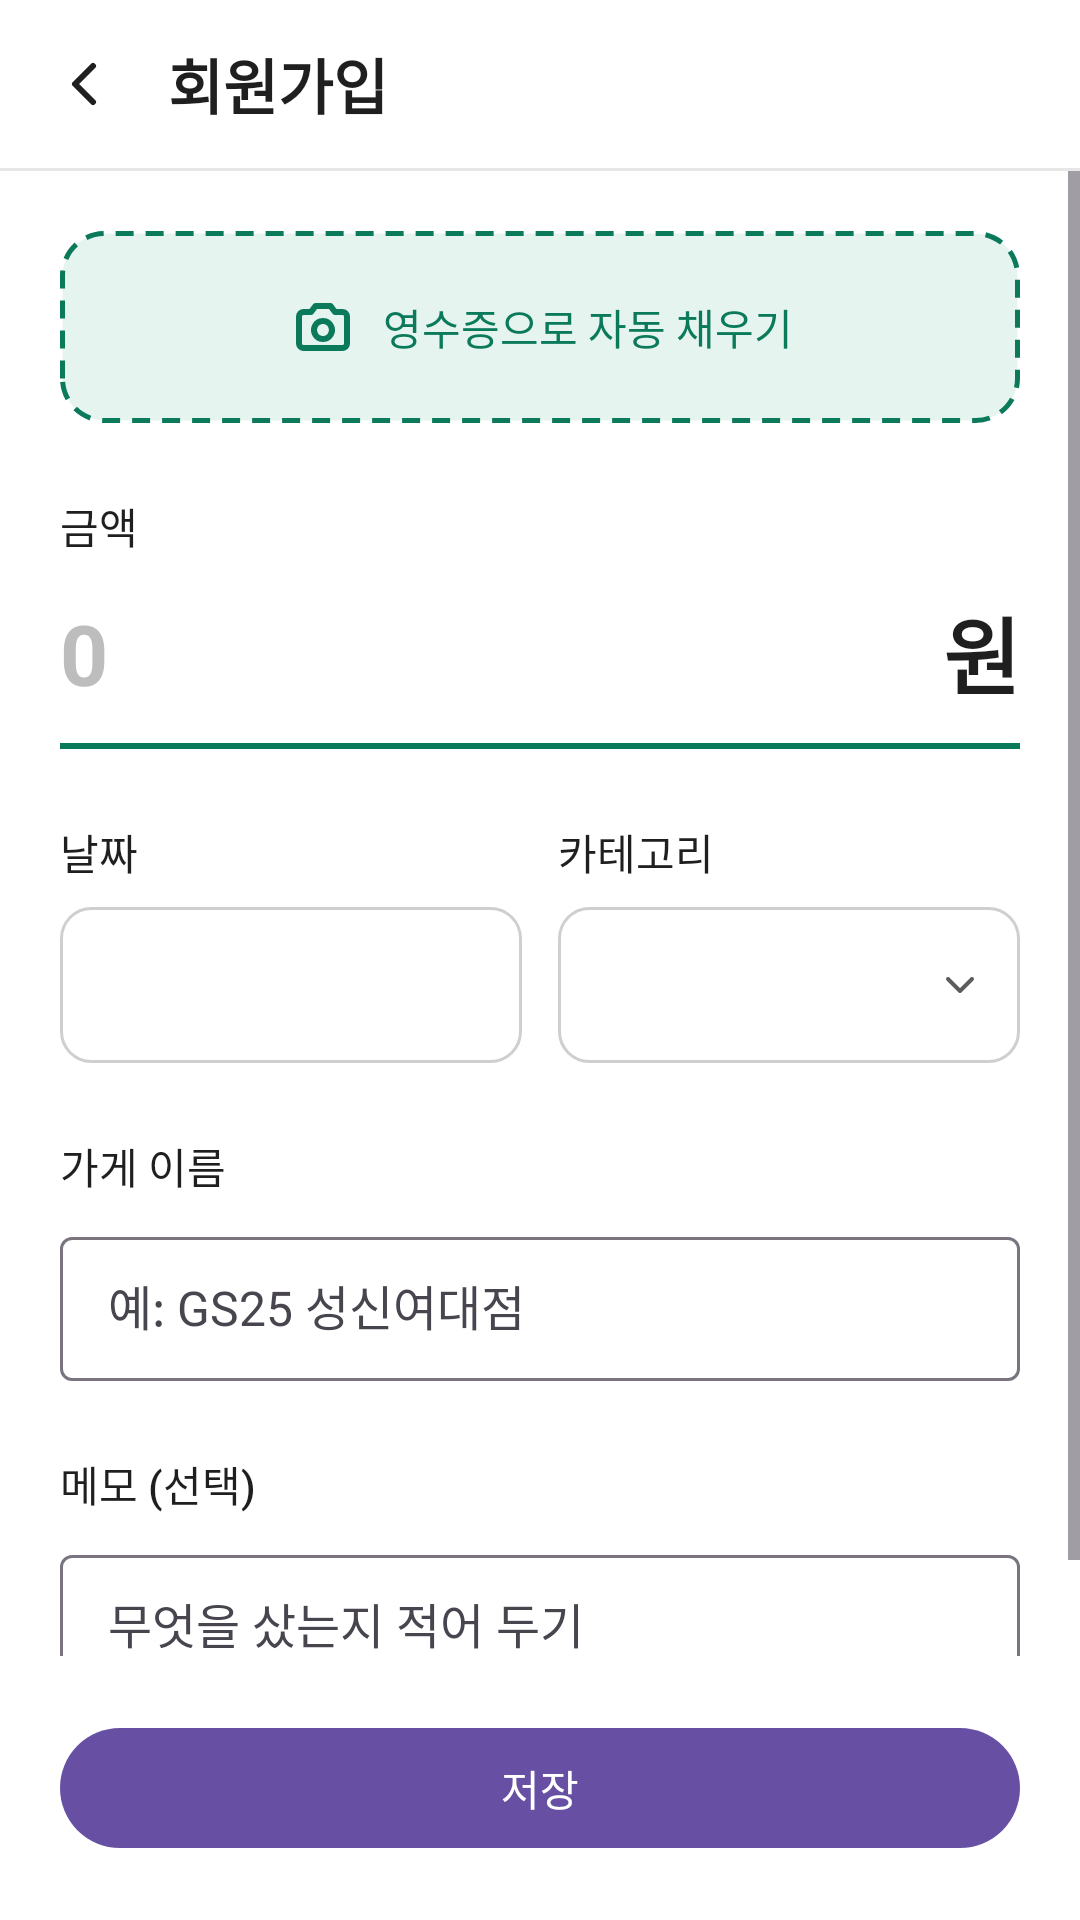

Icon bounding boxes for this 1080w x 1920h phone screenshot, format box(x1, y1, x2, y2):
camera: box(296, 303, 350, 351)
뒤로 가기: box(72, 63, 96, 105)
